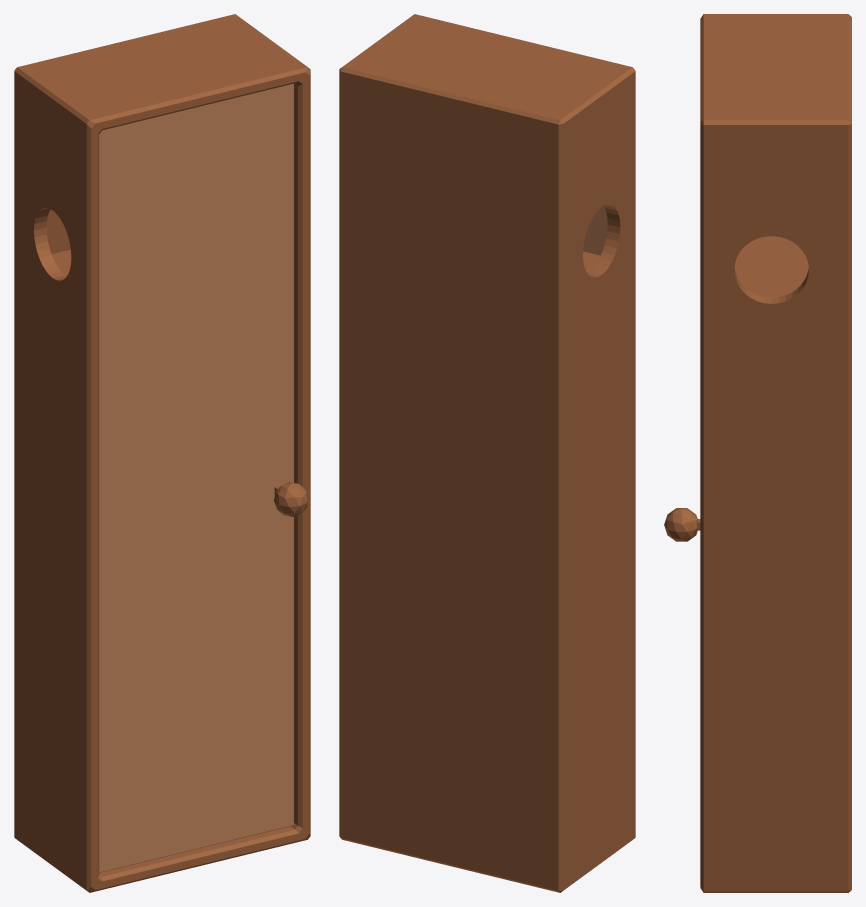
The model's file is holeshelf.fbx.
3 renders of one model, left to right at view 1: azimuth 30°, elevation 25°; view 2: azimuth 150°, elevation 25°; view 3: azimuth 270°, elevation 25°, orthographic.
Parts seen in each view (by area): view 1: Shelf A .004, Shelf A .003; view 2: Shelf A .003, Shelf A .004; view 3: Shelf A .003, Shelf A .004.
Part boxes in pixels (bbox=[...]): Shelf A .004: bbox=[99, 83, 308, 872]; Shelf A .003: bbox=[14, 14, 310, 892]; Shelf A .003: bbox=[339, 14, 635, 892]; Shelf A .004: bbox=[583, 206, 607, 255]; Shelf A .003: bbox=[700, 14, 851, 892]; Shelf A .004: bbox=[664, 508, 700, 541].
Bounding box in the file's own units: 326 × 1076 × 237.
